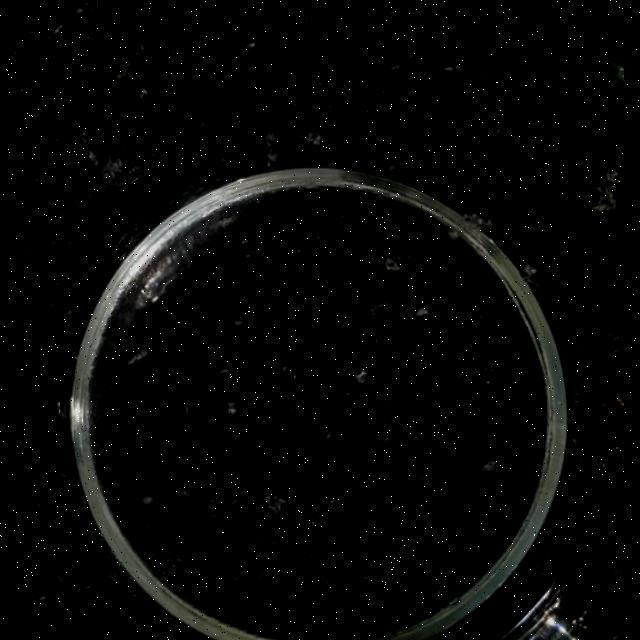Fibre: (94, 147, 128, 186), (592, 168, 622, 212), (389, 47, 418, 75), (464, 209, 494, 231), (264, 130, 282, 166), (263, 492, 287, 514), (522, 262, 542, 288), (366, 300, 396, 316), (298, 130, 324, 146), (384, 252, 404, 272), (127, 348, 149, 366), (479, 459, 498, 475), (320, 574, 338, 590), (15, 578, 17, 618)
microbeads: (354, 368, 368, 384), (245, 41, 257, 58), (414, 305, 430, 317), (227, 400, 239, 416), (140, 86, 150, 100), (444, 62, 458, 72), (140, 495, 154, 505)
